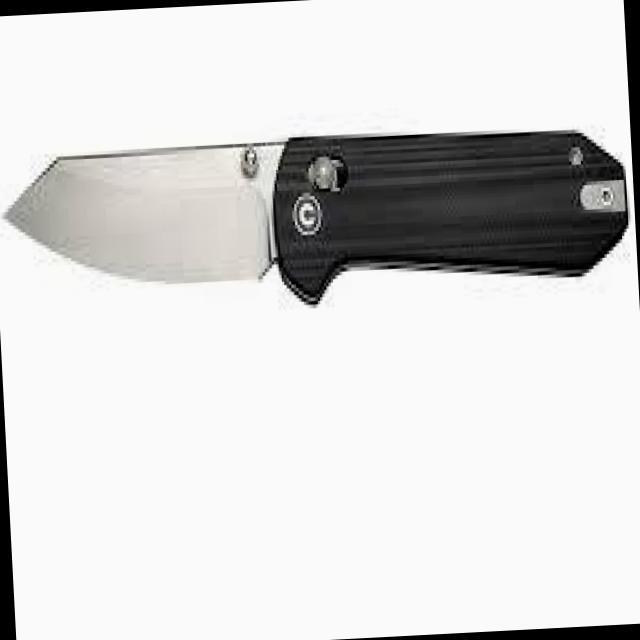Knife: (0, 82, 640, 403)
